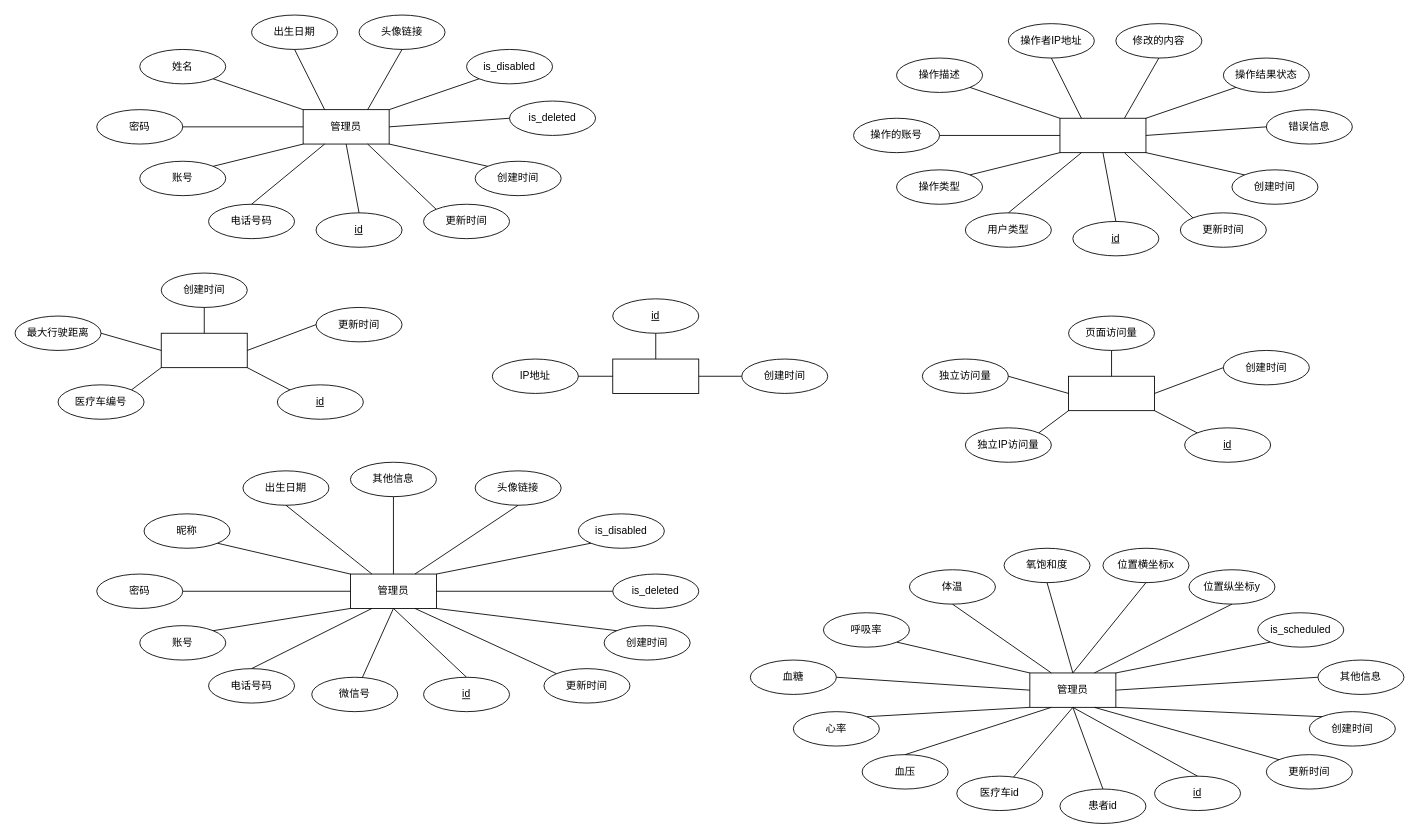
The diagram is 1419 pixels wide and 839 high, and some of its shapes have lost their labels. The centre of each missing label's shape, as x and y in pixels:
"IP白名单" goes at point (655, 375).
"webaccesscount" goes at point (1111, 393).
"医疗车" goes at point (203, 350).
"日志" goes at point (1102, 135).
